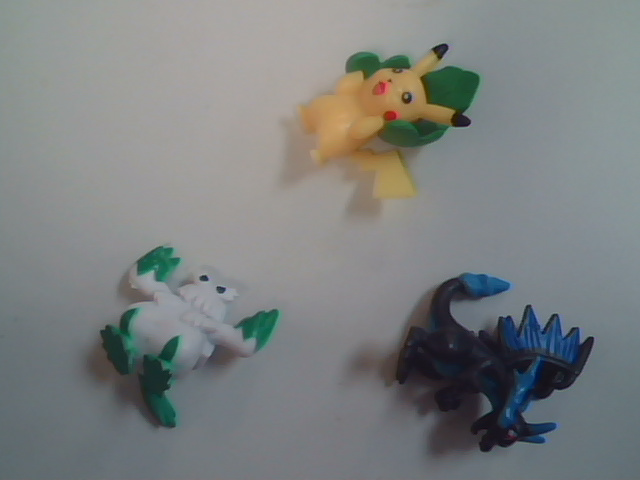abomasnow: (57, 232, 289, 437)
charizard: (379, 262, 604, 461)
pikachu: (282, 12, 506, 223)
